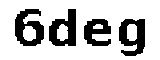6: (12, 5, 44, 51)
d: (48, 8, 83, 48)
e: (84, 15, 115, 51)
g: (116, 15, 148, 60)
